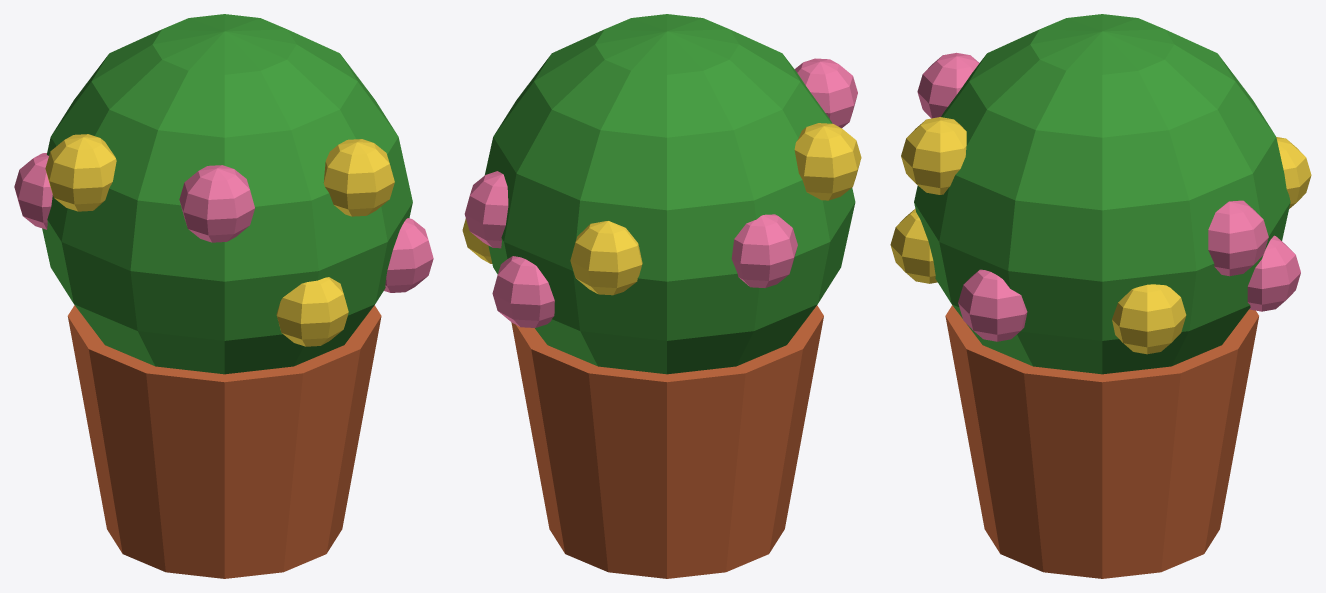
Rendered from potted_plant_1.glb.
3 renders of one model, left to right at view 1: azimuth 30°, elevation 25°; view 2: azimuth 150°, elevation 25°; view 3: azimuth 270°, elevation 25°, orthographic.
Parts seen in each view (by area): view 1: bush_plant_leaf, pot_pot_terracotta, flower_flower_yellow, flower_flower_pink; view 2: bush_plant_leaf, pot_pot_terracotta, flower_flower_pink, flower_flower_yellow; view 3: bush_plant_leaf, pot_pot_terracotta, flower_flower_pink, flower_flower_yellow.
Boxes of the visible parts, x1,y1,x2,y2 form: bush_plant_leaf: [42, 14, 412, 374]; pot_pot_terracotta: [67, 305, 381, 578]; flower_flower_yellow: [45, 134, 394, 346]; flower_flower_pink: [14, 153, 433, 292]; bush_plant_leaf: [485, 14, 855, 374]; pot_pot_terracotta: [511, 305, 823, 578]; flower_flower_pink: [464, 58, 857, 327]; flower_flower_yellow: [462, 123, 861, 295]; bush_plant_leaf: [914, 14, 1290, 374]; pot_pot_terracotta: [945, 305, 1258, 578]; flower_flower_pink: [917, 52, 1300, 341]; flower_flower_yellow: [890, 117, 1311, 354].
Size of the model in its own units: 0.5316 by 0.7 by 0.5366.
